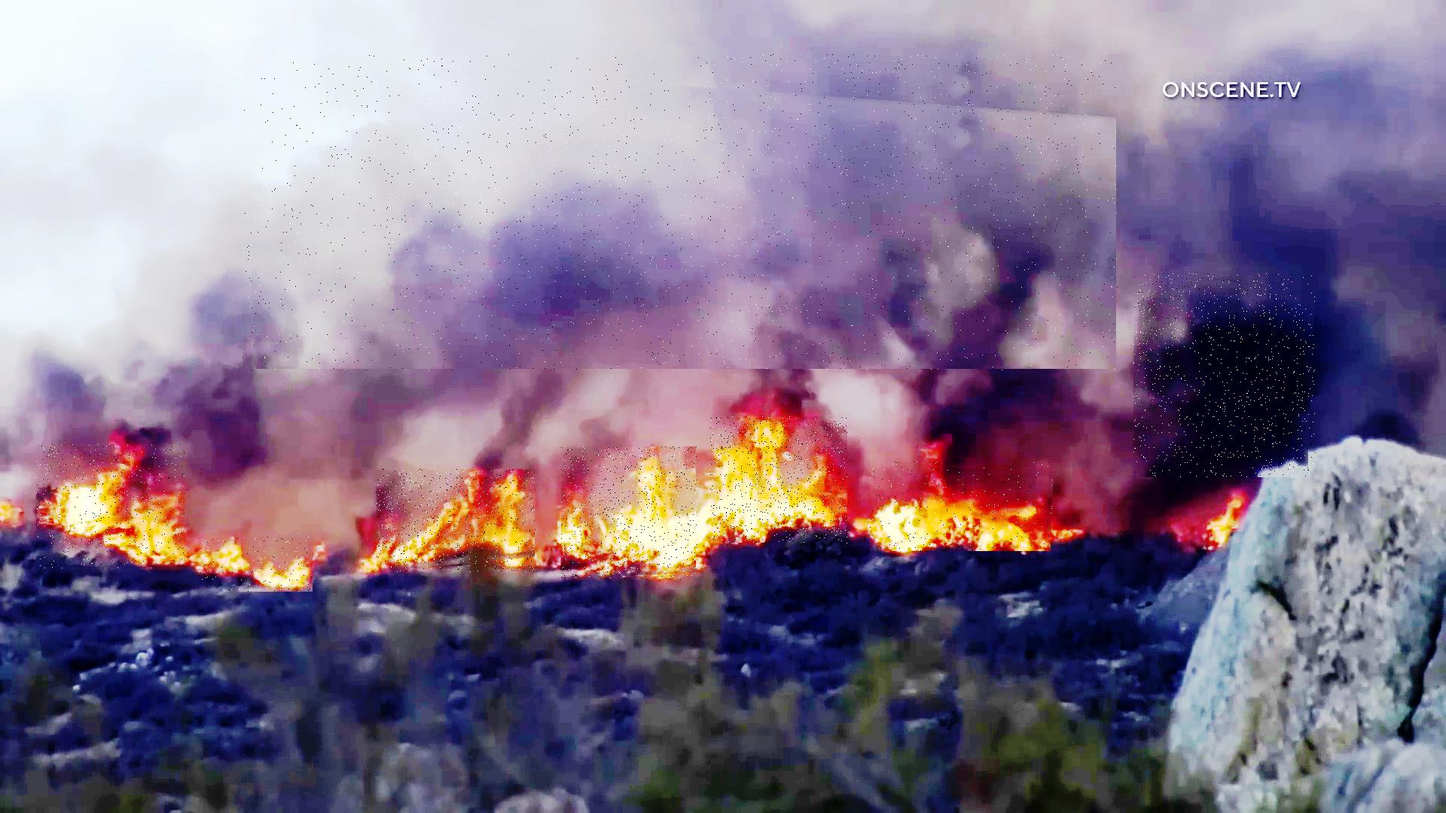fire: (36, 445, 185, 569), (562, 447, 698, 580), (710, 416, 847, 544), (377, 469, 536, 572), (870, 462, 1054, 551), (200, 537, 313, 592)
smoke: (243, 55, 1118, 371), (1134, 273, 1316, 477)
